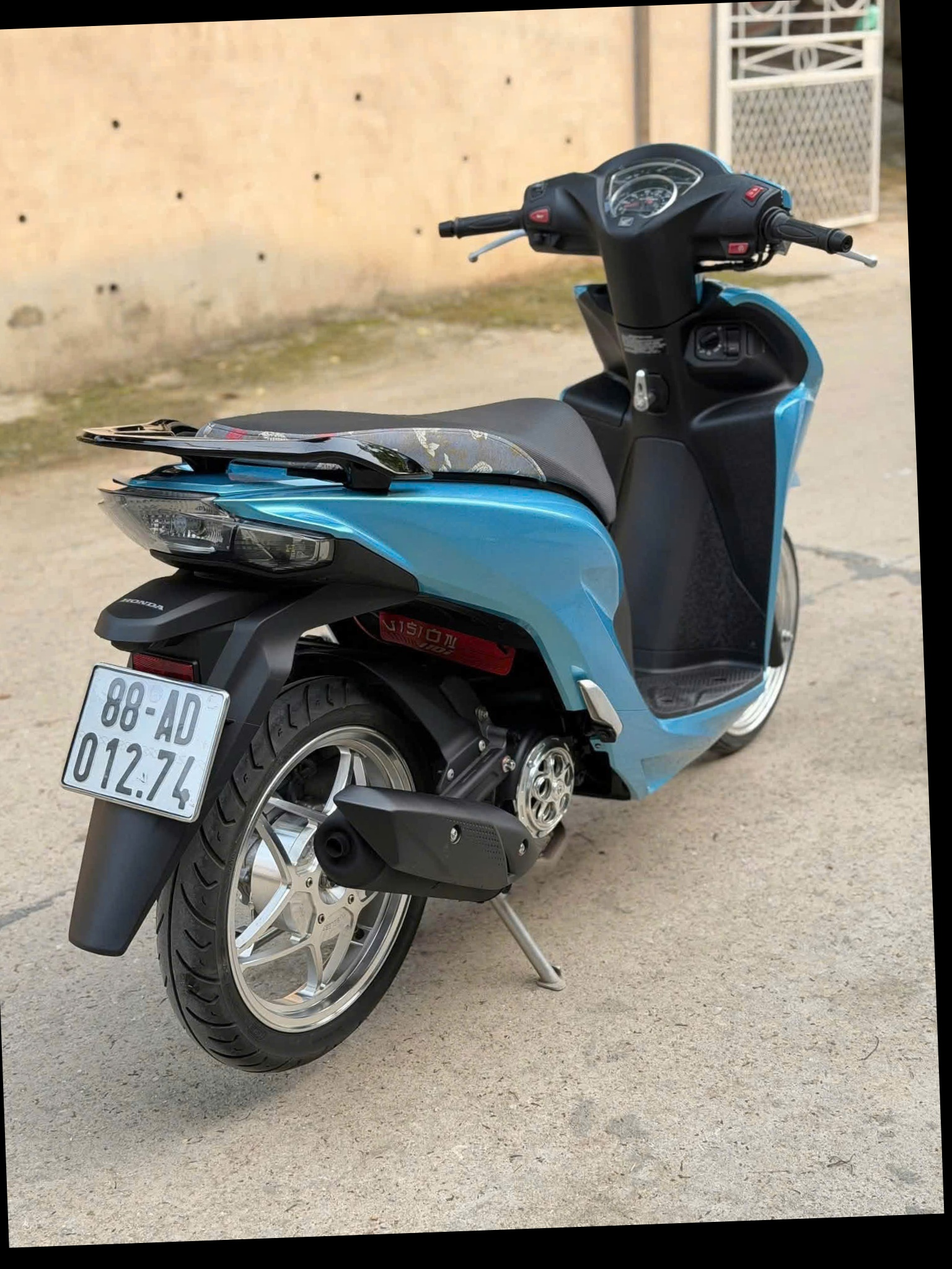Bien-so: (114, 656, 288, 821)
